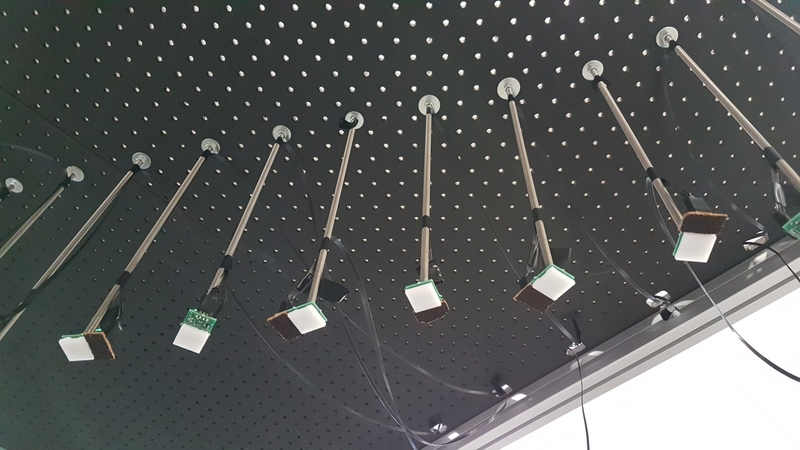target: (533, 265, 573, 299), (171, 322, 209, 356), (677, 229, 714, 263), (288, 303, 326, 336), (404, 280, 440, 313), (60, 334, 95, 363)
